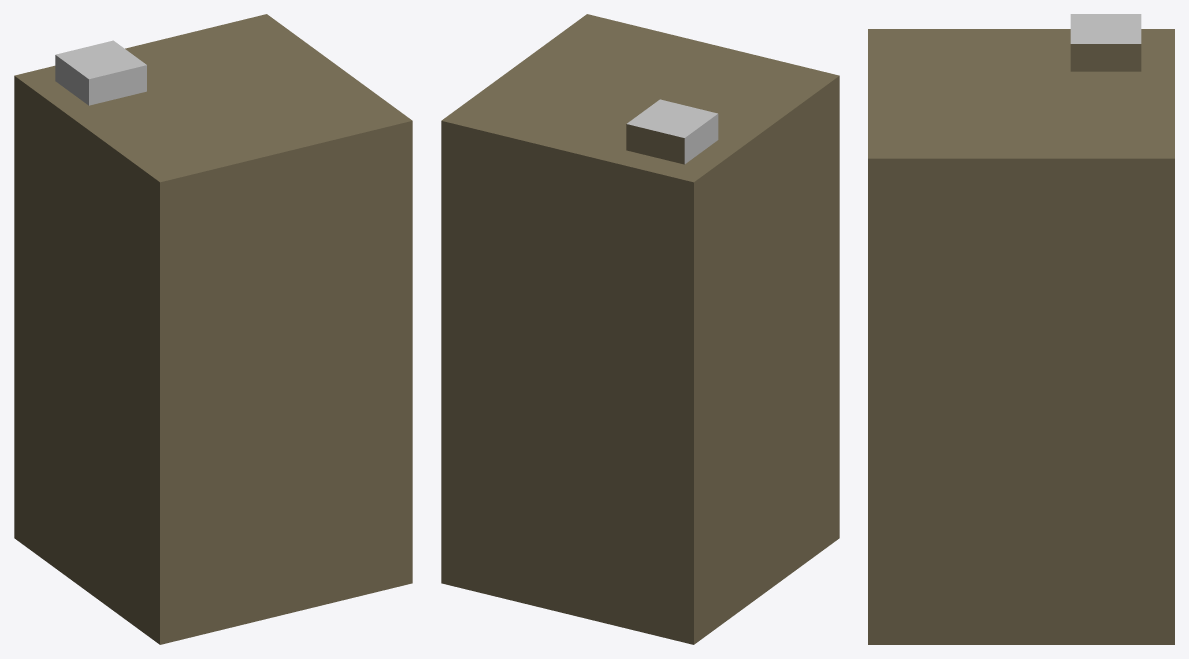
The model's file is highrise_2.obj.
The picture shows the model from 3 angles, left to right: view 1: azimuth 30°, elevation 25°; view 2: azimuth 150°, elevation 25°; view 3: azimuth 270°, elevation 25°; orthographic projection. The views are drawn at different scales.
Parts seen in each view (by area): view 1: Mesh1 Model; view 2: Mesh1 Model; view 3: Mesh1 Model.
Boxes of the visible parts, x1,y1,x2,y2 form: Mesh1 Model: (14, 14, 412, 644); Mesh1 Model: (441, 14, 839, 644); Mesh1 Model: (868, 14, 1174, 644).
Size of the model in its own units: 20 by 37 by 20.
